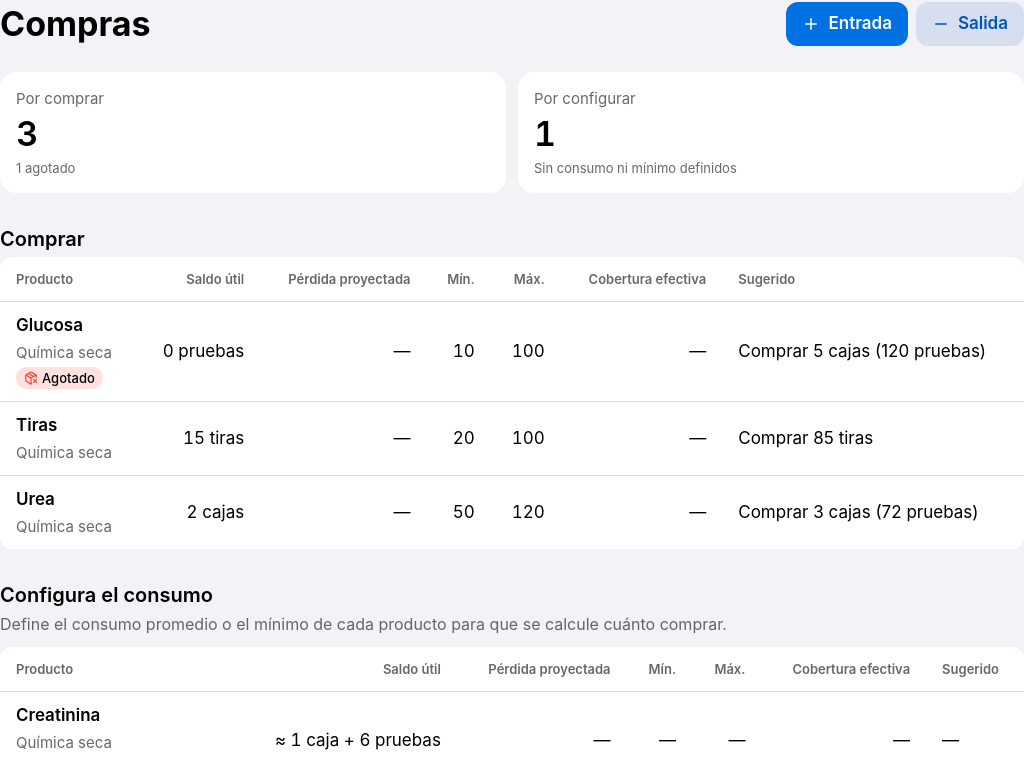
Scenario: PurchasingPage (desktop) › opens the product detail when a row is clicked
Click the text "Urea" at (35, 500), box [16, 488, 55, 512]
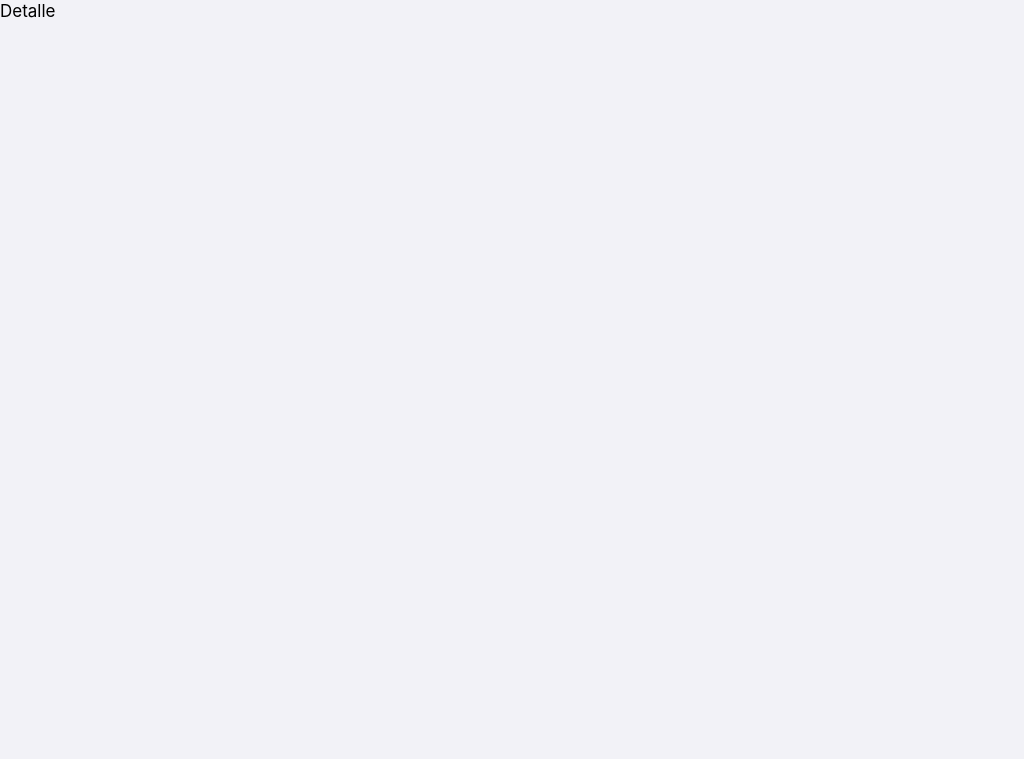
Expected: the heading "Detalle" is shown, [0, 1, 56, 21]
